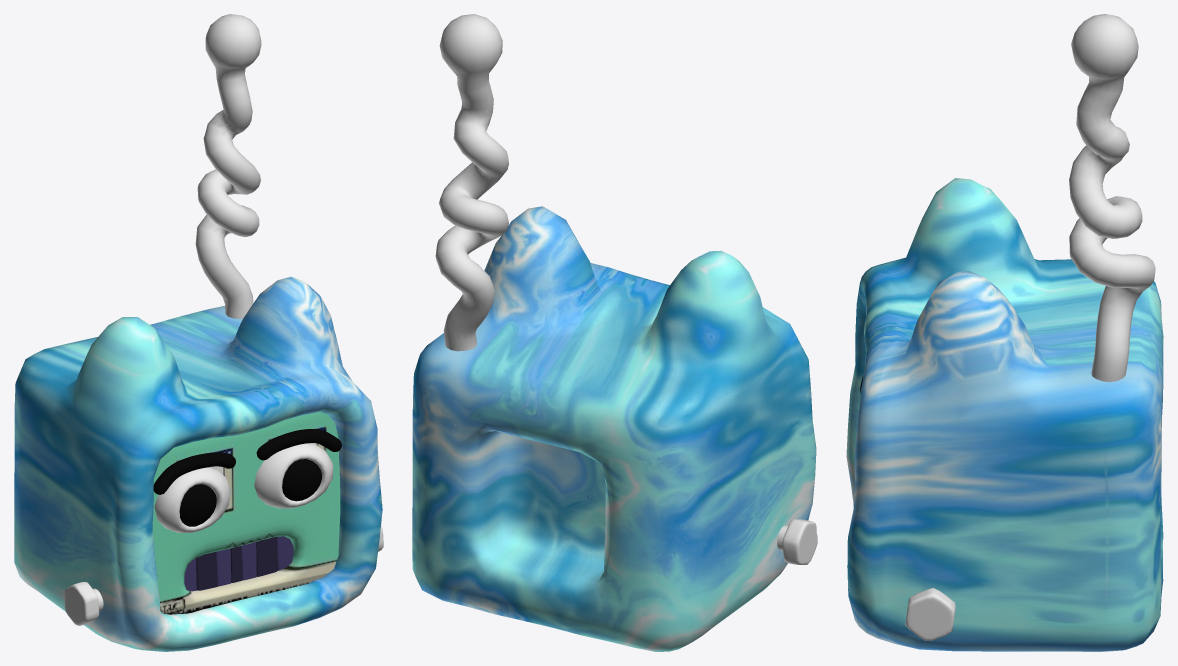
The model's file is tvmanhead.glb.
3 renders of one model, left to right at view 1: azimuth 30°, elevation 25°; view 2: azimuth 150°, elevation 25°; view 3: azimuth 270°, elevation 25°, orthographic. The views are drawn at different scales.
Visible parts, largest first — view 1: Retopo_geom.030, Retopo_geom.031, Retopo_geom.012, Retopo_geom.009, Retopo_geom.006, Retopo_geom.004, Retopo_geom.005, Retopo_geom.007; view 2: Retopo_geom.030, Retopo_geom.012, Retopo_geom.004; view 3: Retopo_geom.030, Retopo_geom.012, Retopo_geom.004.
Boxes of the visible parts, left/top/right/bottom form: Retopo_geom.030: left=14, top=276, right=382, bottom=651; Retopo_geom.031: left=152, top=412, right=340, bottom=614; Retopo_geom.012: left=195, top=14, right=261, bottom=318; Retopo_geom.009: left=153, top=429, right=341, bottom=532; Retopo_geom.006: left=196, top=537, right=277, bottom=590; Retopo_geom.004: left=64, top=525, right=383, bottom=625; Retopo_geom.005: left=215, top=542, right=256, bottom=586; Retopo_geom.007: left=184, top=536, right=293, bottom=591; Retopo_geom.030: left=412, top=206, right=816, bottom=651; Retopo_geom.012: left=435, top=14, right=508, bottom=351; Retopo_geom.004: left=777, top=519, right=817, bottom=564; Retopo_geom.030: left=846, top=178, right=1163, bottom=651; Retopo_geom.012: left=1069, top=14, right=1155, bottom=382; Retopo_geom.004: left=905, top=588, right=955, bottom=640.
Bounding box in the file's own units: 0.4969 × 0.8302 × 0.3828.
Materials: 7 (2 with a texture image).
